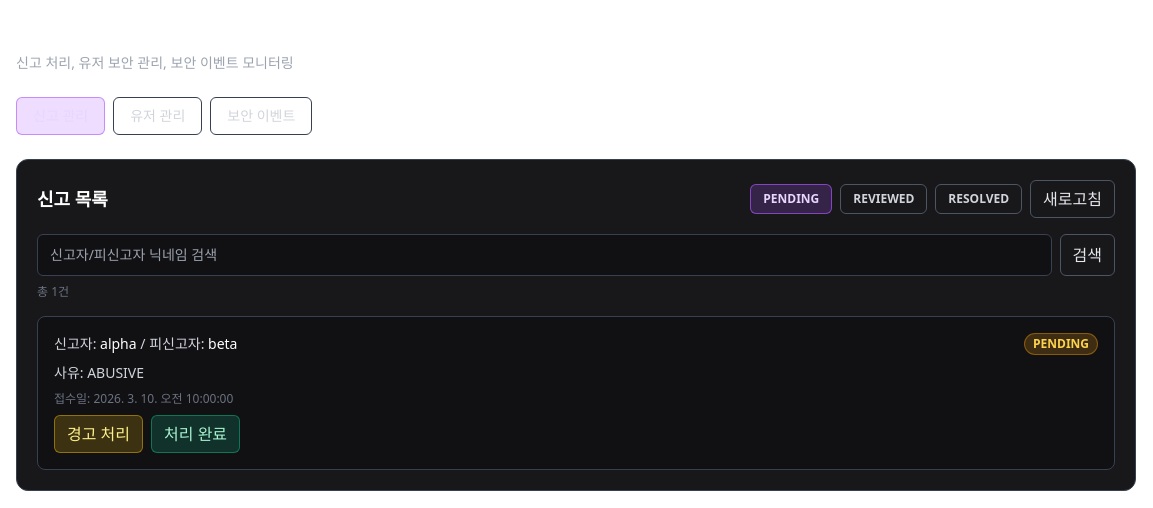
Test case: AdminPage reports flow › filters by status and nickname search
This screenshot has width=1153, height=508.
Expected: the text "alpha" is shown, [100, 334, 137, 353]
Click the button "RESOLVED": [979, 199] box [935, 184, 1022, 214]
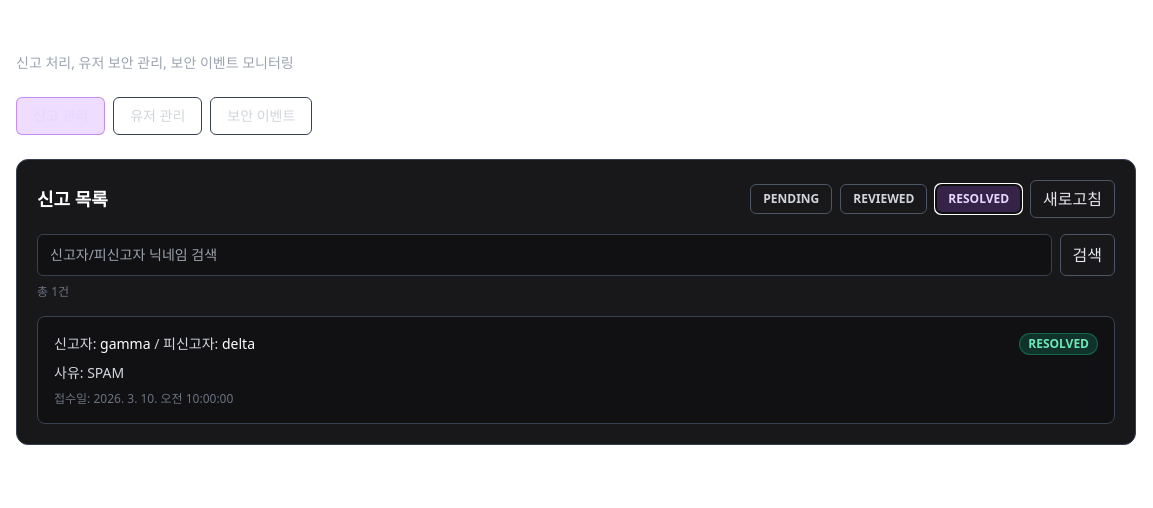
Result: the text "gamma" is shown at [100, 334, 150, 353]
In the field with placeholder "신고자/피신고자 닉네임 검색": [544, 255] box [37, 234, 1052, 276], type "zzz"
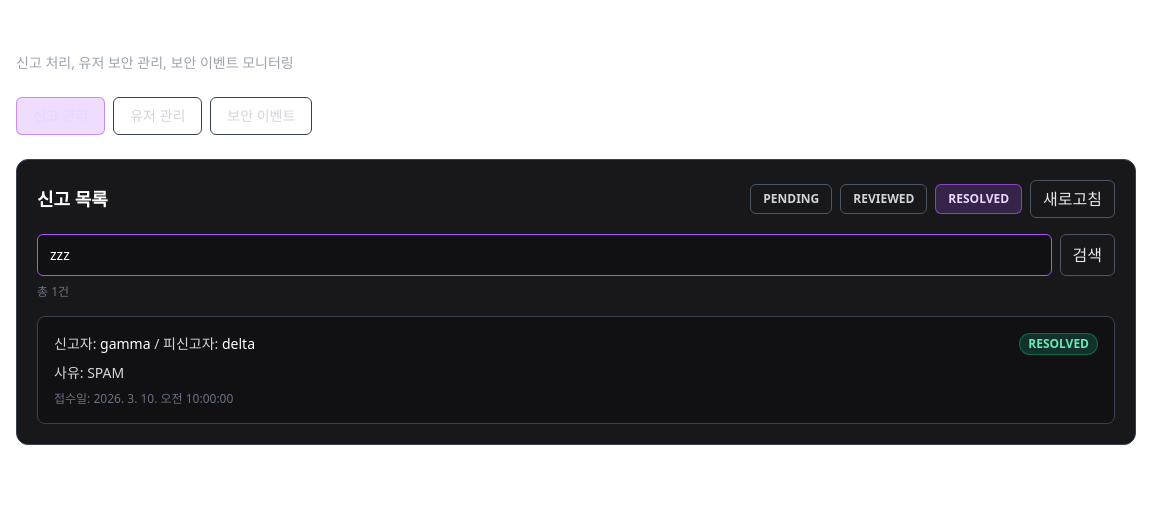
Click the button "검색": [1087, 255] box [1060, 234, 1115, 276]
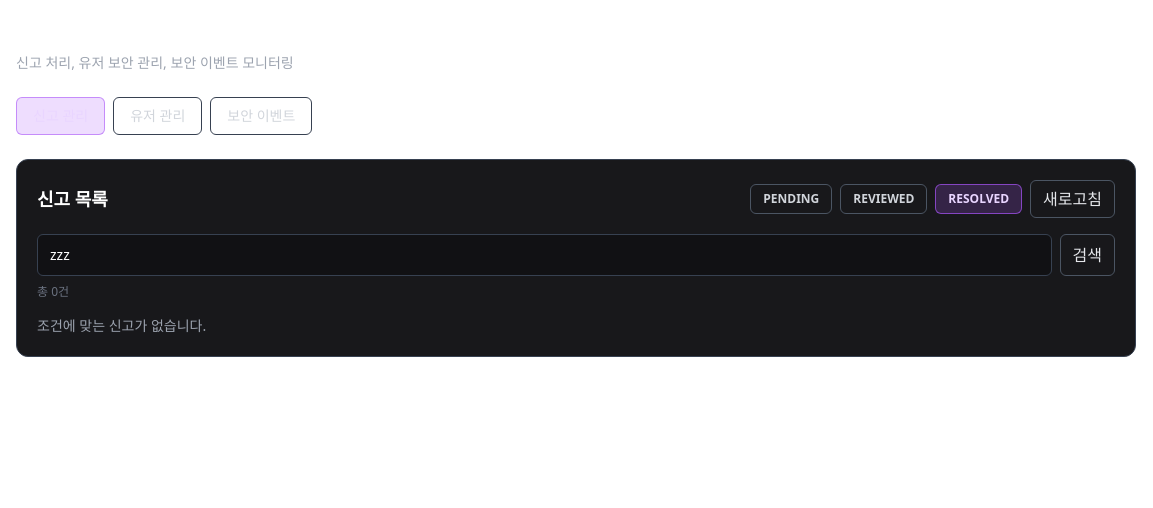
Result: the text "조건에 맞는 신고가 없습니다." is shown at [37, 316, 206, 335]
